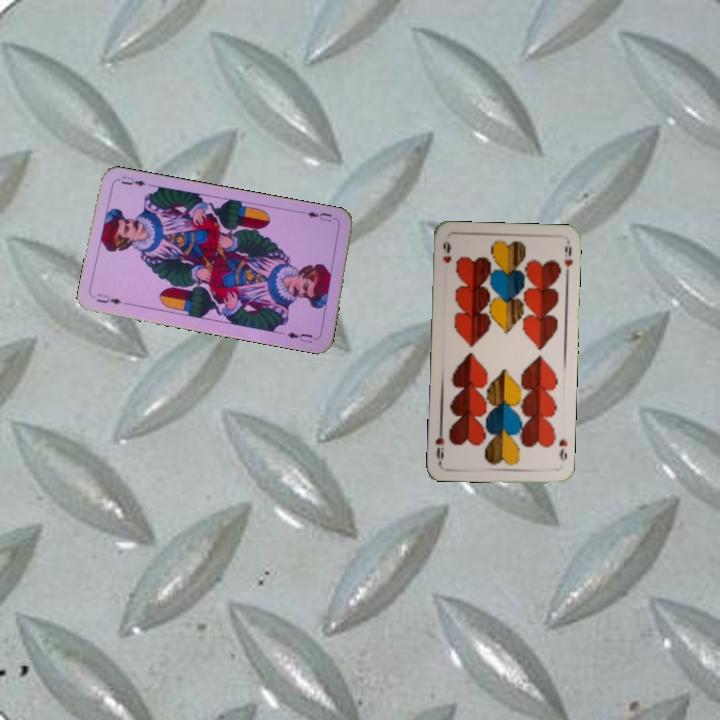EU: (303, 207, 339, 224), (92, 289, 124, 307)
H9: (554, 435, 570, 464), (439, 237, 454, 265)
